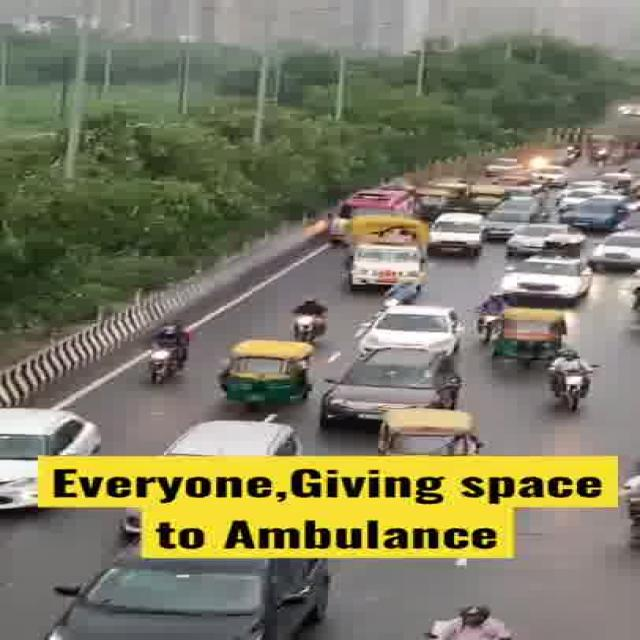ambulance: (326, 185, 418, 224)
